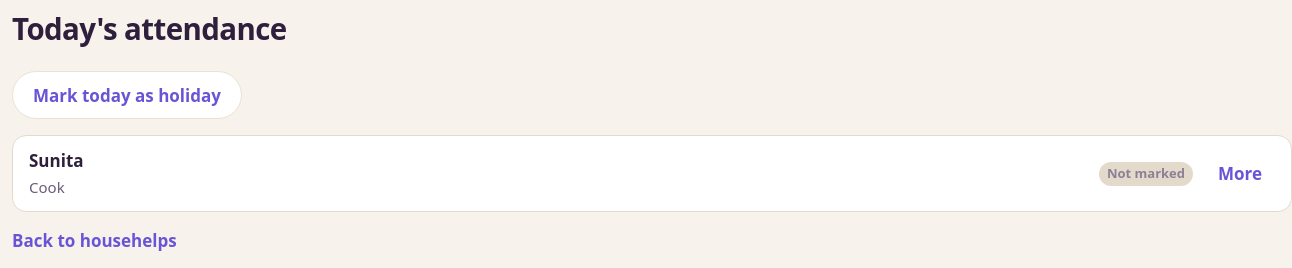
it: TodayPage › queues the mark and shows a pending badge when the PUT fails with a network error
Click the text "Sunita" at (56, 161), box [29,149,84,172]
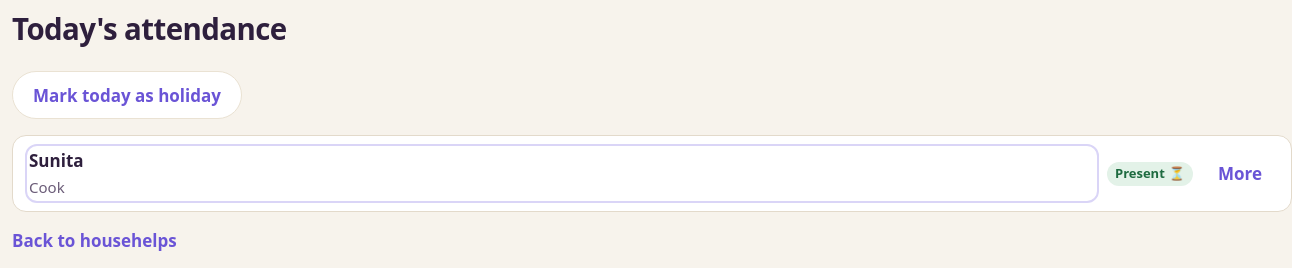
Now the element named "Not yet synced" shows "Present", box [1115,164,1165,182]
